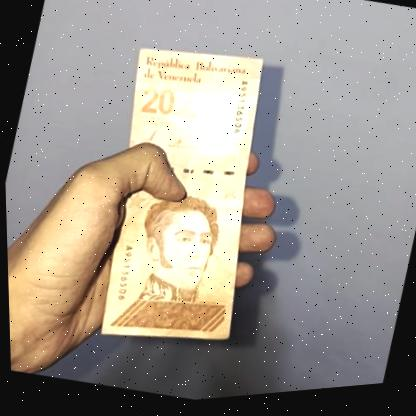twenty-front-vef: (69, 32, 294, 369)
